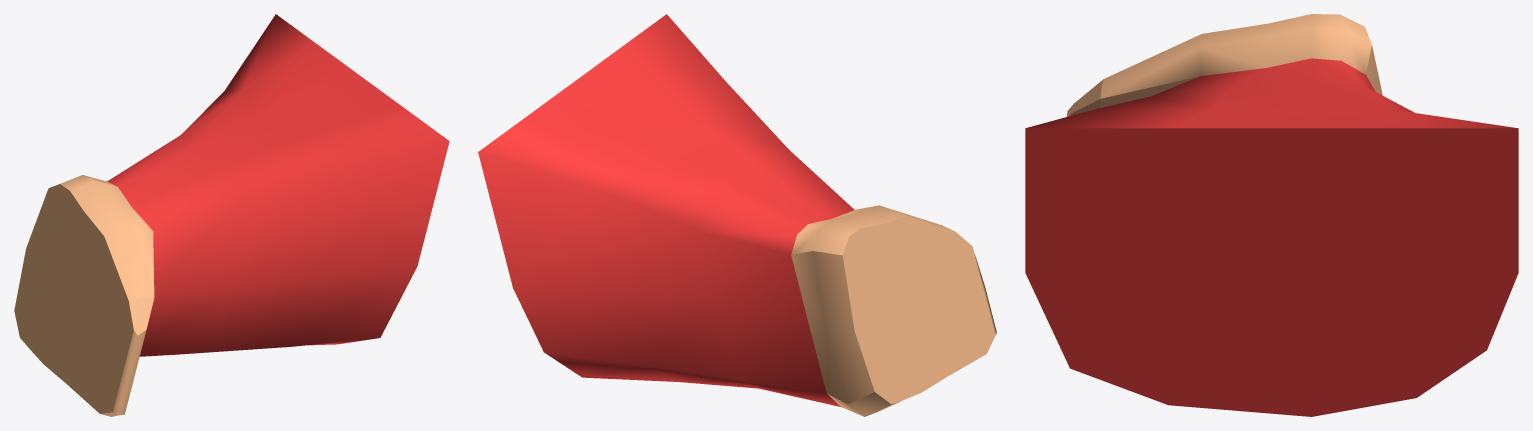
Rendered from AXO_ANGRY_LEG_L.fbx.
3 renders of one model, left to right at view 1: azimuth 30°, elevation 25°; view 2: azimuth 150°, elevation 25°; view 3: azimuth 270°, elevation 25°, orthographic. The views are drawn at different scales.
Visible parts, largest first — view 1: AXO_ANGRY_LEG_L; view 2: AXO_ANGRY_LEG_L; view 3: AXO_ANGRY_LEG_L.
Boxes of the visible parts, bbox=[...] form: AXO_ANGRY_LEG_L: bbox=[14, 14, 449, 416]; AXO_ANGRY_LEG_L: bbox=[478, 14, 996, 416]; AXO_ANGRY_LEG_L: bbox=[1025, 14, 1518, 416].
Size of the model in its own units: 3.55 by 2.47 by 3.32.
